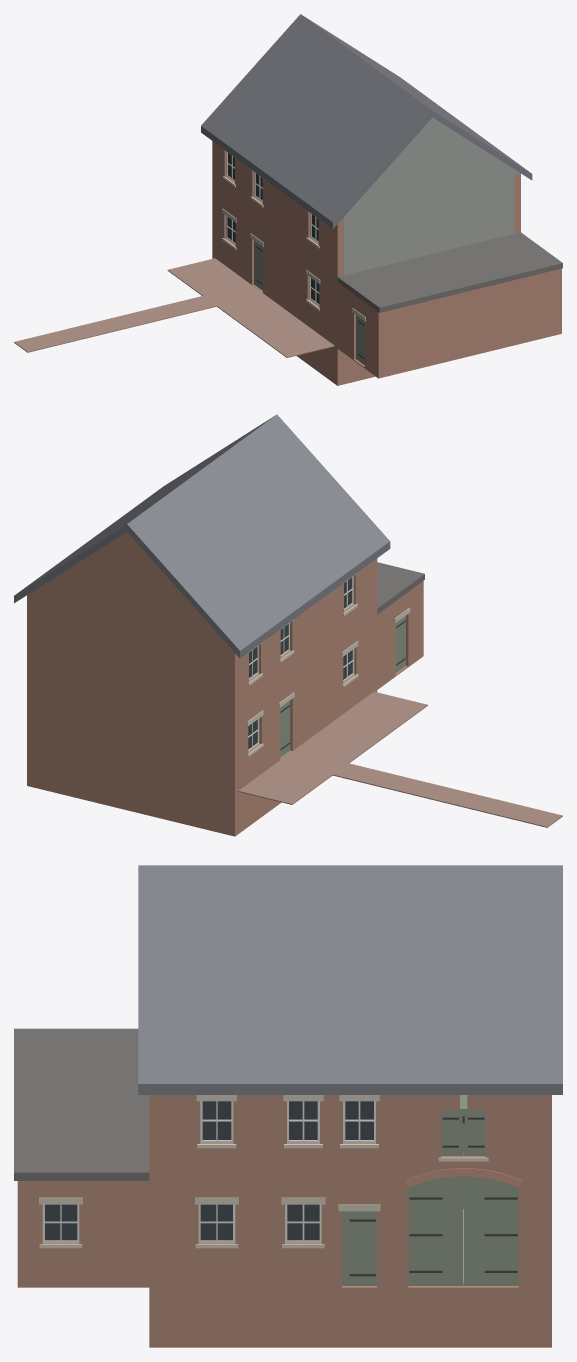
File: high_house_2021_prairie_coach_house__as_standing_1904.glb
3 renders of one model, top to bottom at view 1: azimuth 30°, elevation 25°; view 2: azimuth 150°, elevation 25°; view 3: azimuth 270°, elevation 25°, orthographic. The views are drawn at different scales.
Parts seen in each view (by area): view 1: high_house_2021_prairie_coach_house__as_standing_1904; view 2: high_house_2021_prairie_coach_house__as_standing_1904; view 3: high_house_2021_prairie_coach_house__as_standing_1904.
Part boxes in pixels (x1,y1,x2,y2): high_house_2021_prairie_coach_house__as_standing_1904: [14, 14, 562, 385]; high_house_2021_prairie_coach_house__as_standing_1904: [14, 414, 562, 836]; high_house_2021_prairie_coach_house__as_standing_1904: [14, 865, 562, 1347].
Size of the model in its own units: 22.07 by 12.3 by 14.91.
